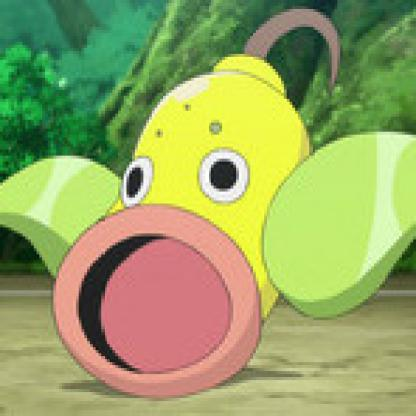Weepinbell: (4, 13, 414, 399)
